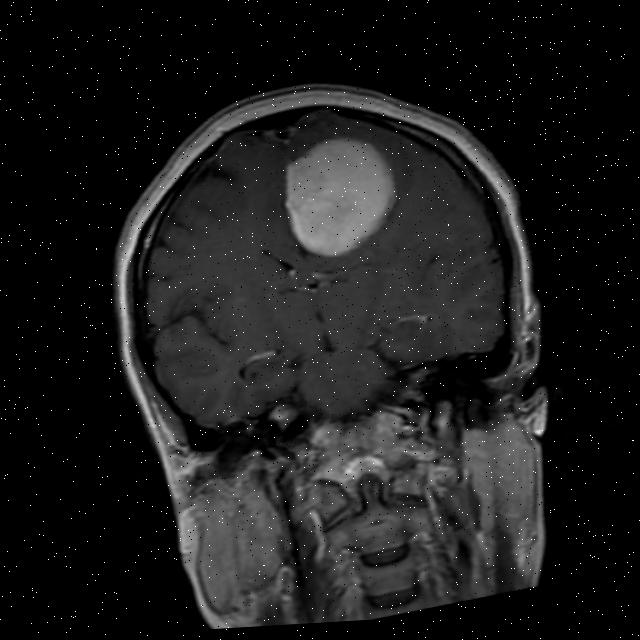Meningioma: (274, 124, 410, 266)
